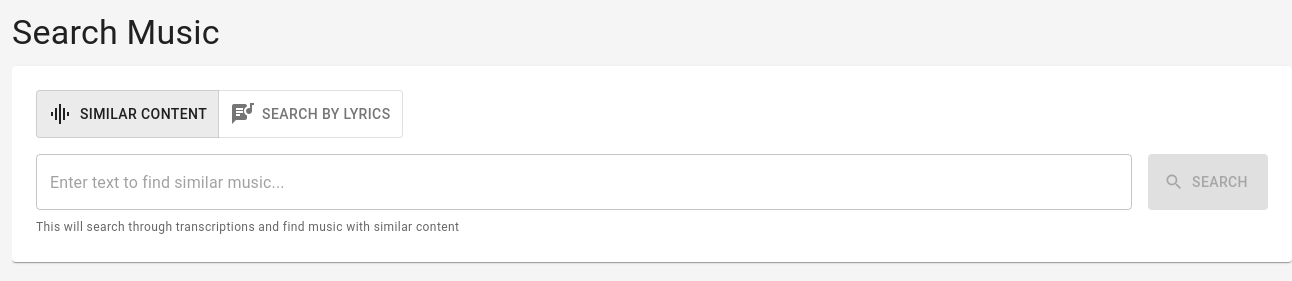
Test case: SearchPage Component › switches search modes
This screenshot has width=1292, height=281.
Click the button "Search by Lyrics": (310, 114) [218,90,402,138]
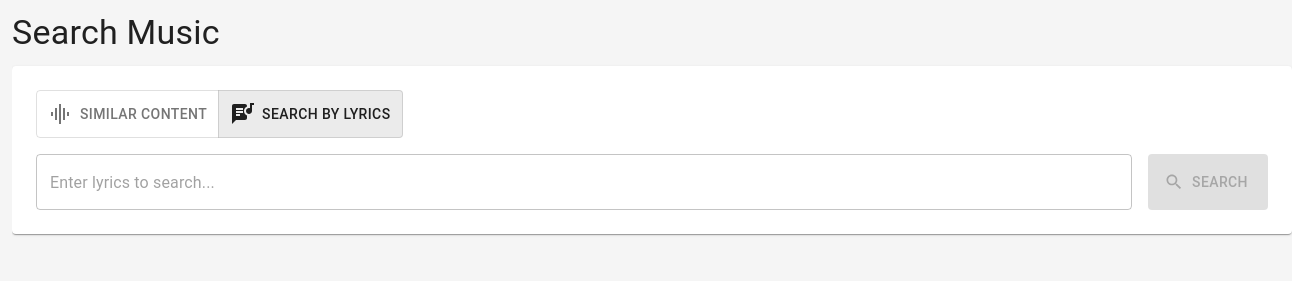
Now the field with placeholder "Enter lyrics to search..." is shown, box [36,154,1132,210]
